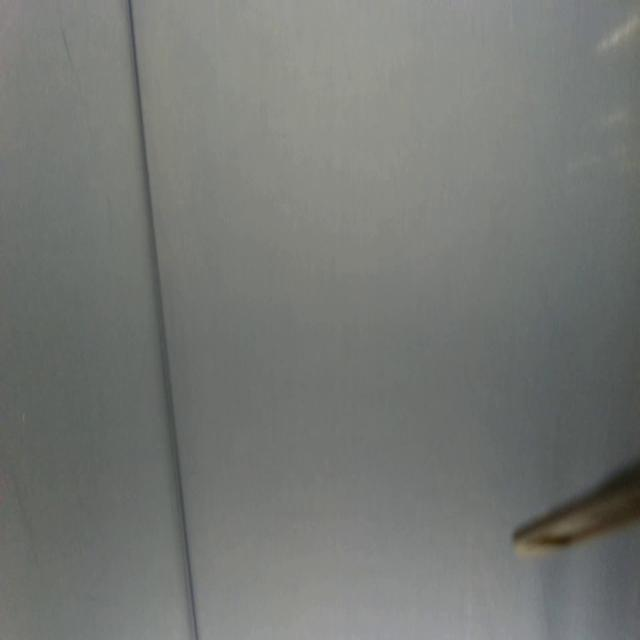crease: (124, 0, 200, 640), (59, 26, 78, 81)
